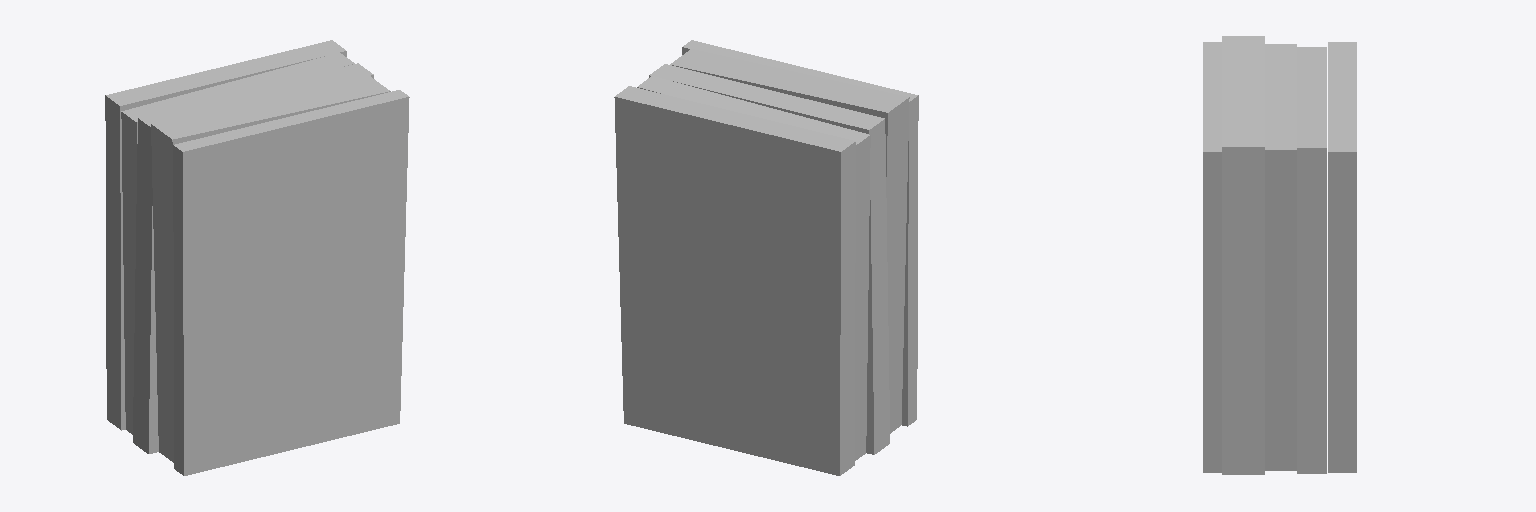
File: Office_Files_E.obj
The picture shows the model from 3 angles: view 1: azimuth 30°, elevation 25°; view 2: azimuth 150°, elevation 25°; view 3: azimuth 270°, elevation 25°; orthographic projection.
Visible parts, largest first — view 1: Office_Files_E; view 2: Office_Files_E; view 3: Office_Files_E.
Boxes of the visible parts, <box> form: Office_Files_E: <box>105,40,409,475</box>; Office_Files_E: <box>614,40,918,475</box>; Office_Files_E: <box>1203,36,1356,474</box>.
Size of the model in its own units: 0.2367 by 0.3251 by 0.1381.